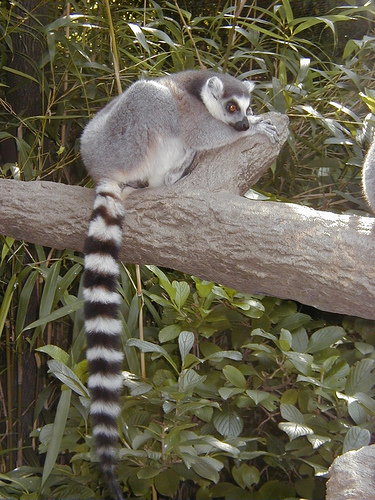cat: (81, 68, 255, 497)
